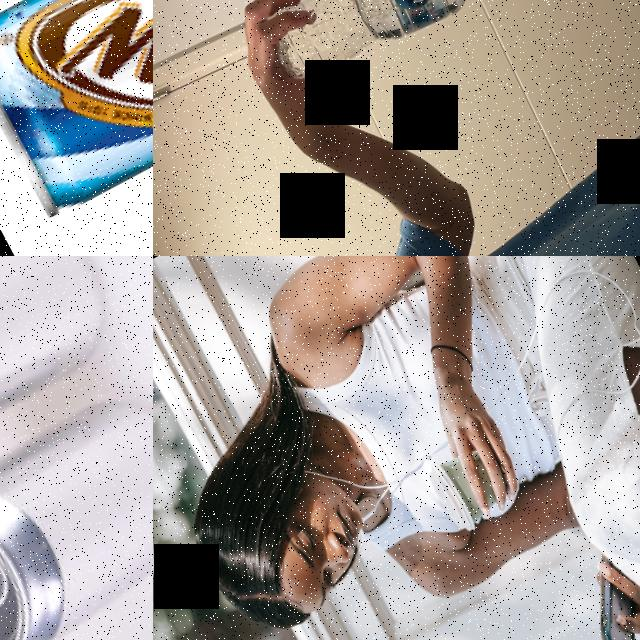bottle: (254, 0, 508, 98)
can: (0, 256, 141, 563), (0, 367, 153, 640), (0, 0, 153, 224)
cup: (419, 429, 527, 539)
